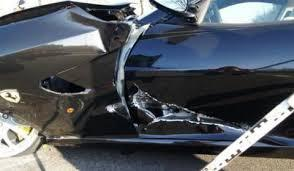doorouter-dent: (122, 37, 256, 155)
